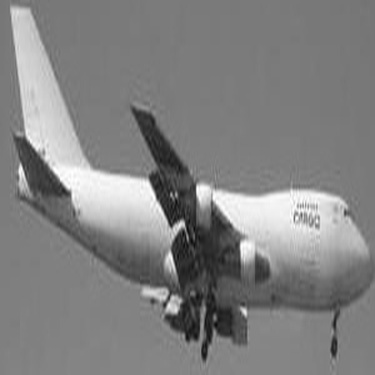airplane: (4, 1, 368, 371)
